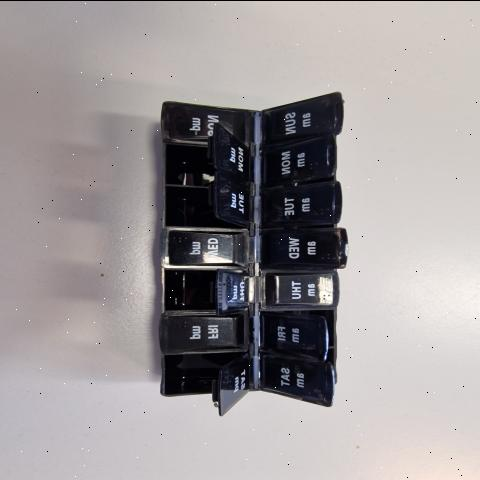Open: (161, 352, 248, 414), (164, 181, 247, 232), (164, 268, 246, 315), (165, 125, 214, 183), (278, 308, 338, 350), (272, 173, 338, 185), (266, 221, 338, 227), (324, 354, 335, 367)
